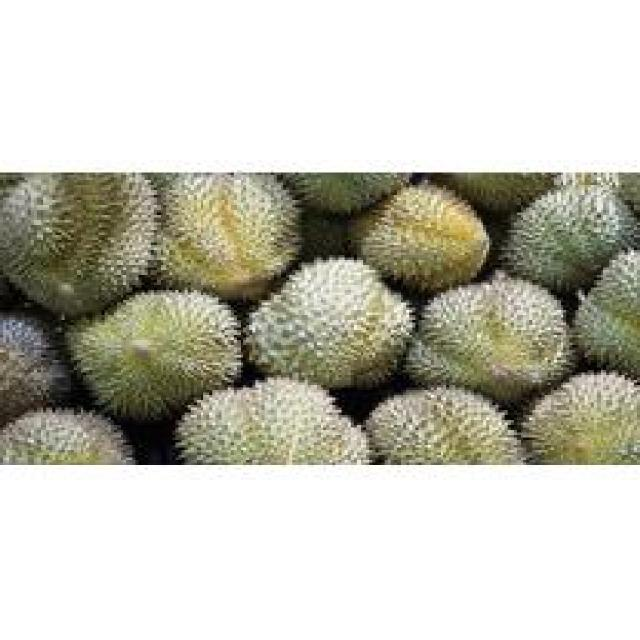fruit: (237, 240, 425, 408), (59, 270, 246, 438), (0, 172, 169, 340), (412, 258, 578, 418), (351, 175, 498, 313), (560, 225, 640, 413)
